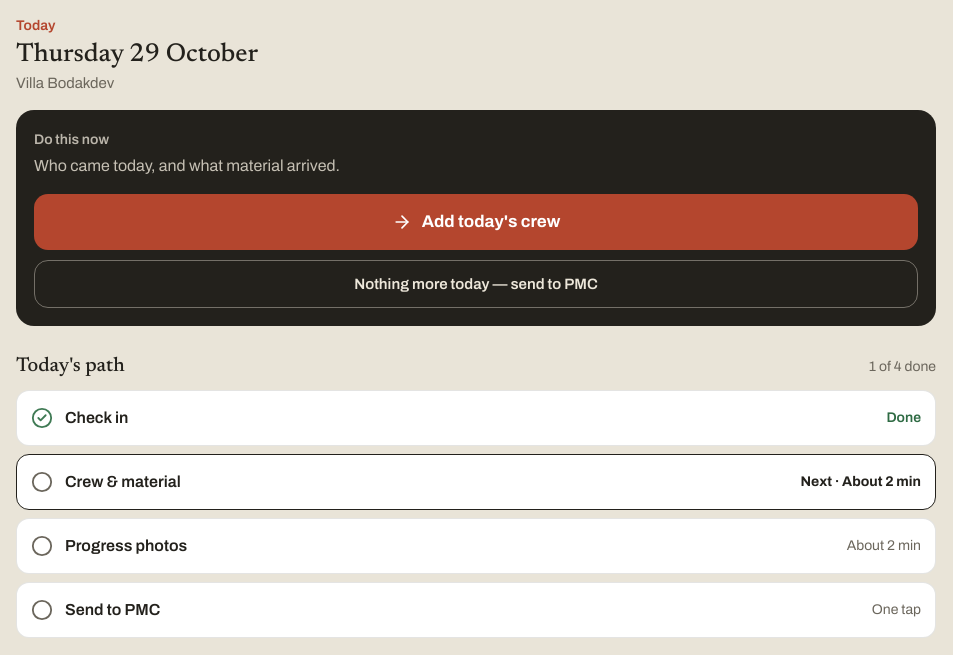
Test: U1 — the crew step, one trade at a time › Today's crew action opens the questions in place, not the Site screen
Click the button with test id "today-action": click(476, 222) [34,194,918,250]
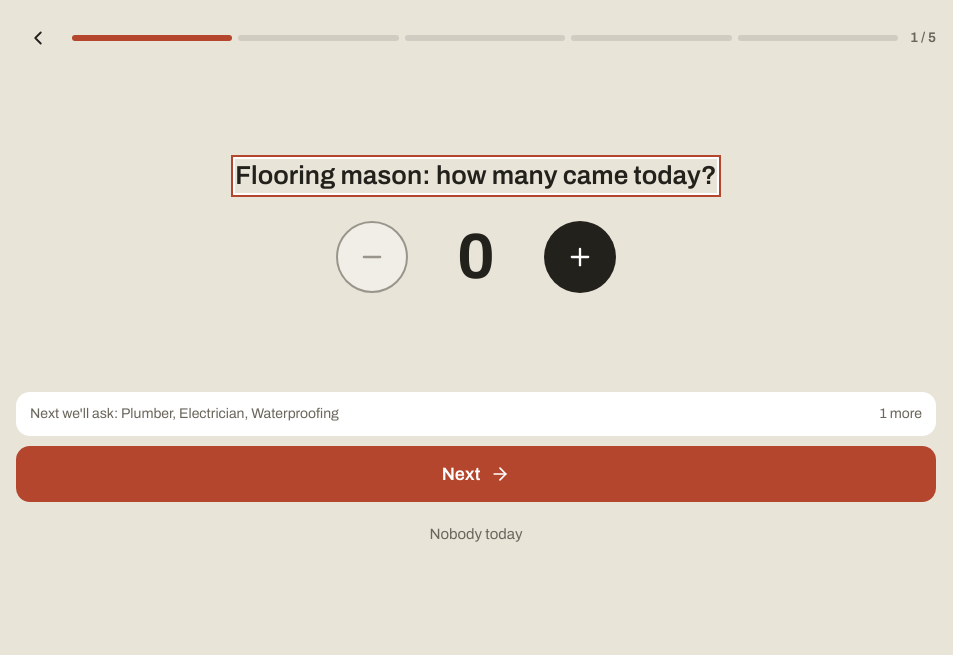
Result: the element with test id "crew-stepper" is shown
Result: the element with test id "engineer-today" is gone
